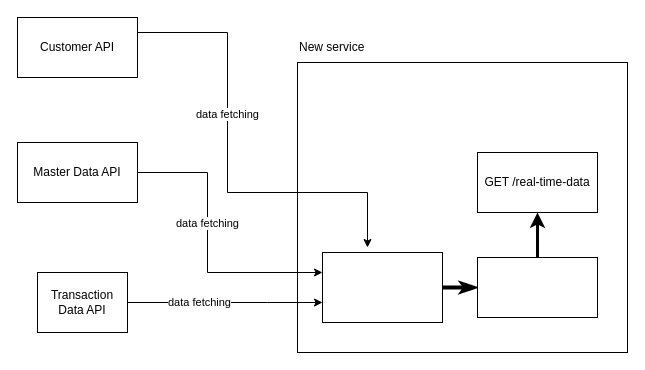
The diagram is 645 pixels wide and 370 high, and some of its shapes have lost their labels. Each missing label, with the centre of its shape:
Batch data process: pixel 382 287
RDBMS that support real time: pixel 537 287
